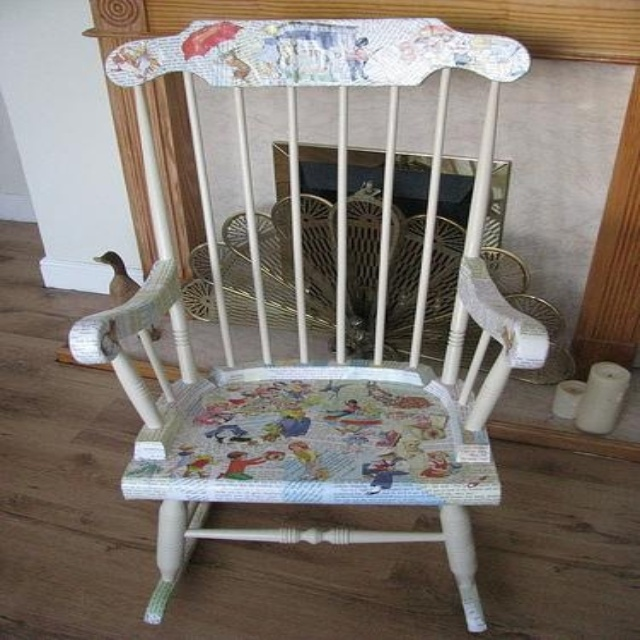obstacle: (70, 18, 546, 631)
